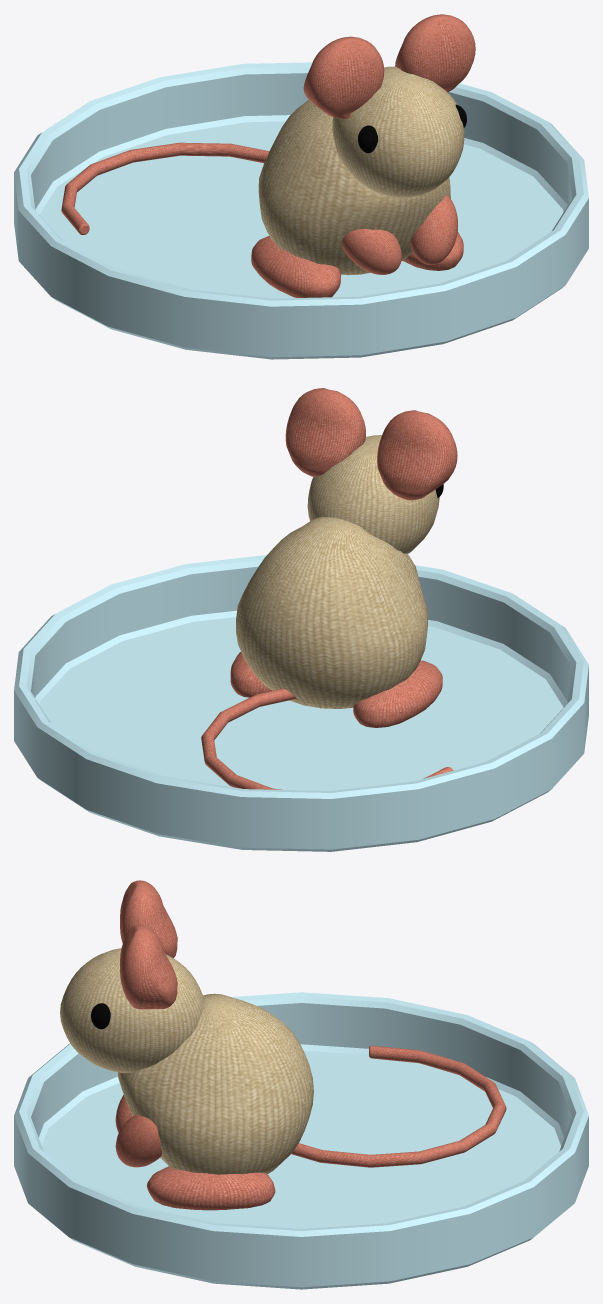
Rendered from gracieAriannePeh_ratPetriDish.fbx.
3 renders of one model, top to bottom at view 1: azimuth 30°, elevation 25°; view 2: azimuth 150°, elevation 25°; view 3: azimuth 270°, elevation 25°, orthographic.
Parts seen in each view (by area): view 1: petri_dish, body, head, left_ear, left_ear1, tail, left_leg, arm1, arm, right_leg, eye1; view 2: petri_dish, body, head, left_ear, left_ear1, left_leg, tail, right_leg; view 3: petri_dish, body, head, tail, right_leg, left_ear1, left_ear, arm1.
Part boxes in pixels (x1,y1,x2,y2): petri_dish: (14, 62, 588, 359); body: (258, 100, 450, 275); head: (332, 66, 464, 197); left_ear: (303, 36, 384, 118); left_ear1: (395, 14, 475, 92); tail: (61, 142, 269, 234); left_leg: (251, 236, 340, 297); arm1: (410, 195, 458, 264); arm: (342, 229, 401, 274); right_leg: (402, 231, 463, 270); eye1: (358, 125, 377, 153); petri_dish: (14, 555, 588, 851); body: (236, 516, 427, 708); head: (307, 435, 439, 553); left_ear: (377, 410, 457, 500); left_ear1: (285, 388, 365, 477); left_leg: (353, 660, 442, 727); tail: (201, 688, 453, 789); right_leg: (230, 652, 272, 697); petri_dish: (14, 992, 588, 1289); body: (118, 993, 313, 1174); head: (60, 948, 204, 1073); tail: (291, 1045, 506, 1167); right_leg: (147, 1166, 275, 1210); left_ear1: (120, 924, 177, 1009); left_ear: (120, 880, 177, 957); arm1: (115, 1114, 161, 1167).
Bounding box in the file's own units: 0.5482 × 0.2819 × 0.5482.
